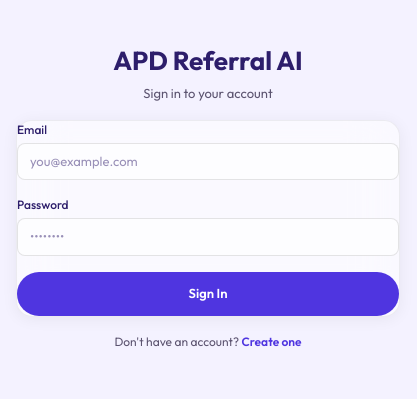
Test: Login › shows fallback error when signIn throws non-Error
Type "bad@test.com" into the field labelled "Email".
click(208, 162); type("bad@test.com")  # box [17,143,399,180]
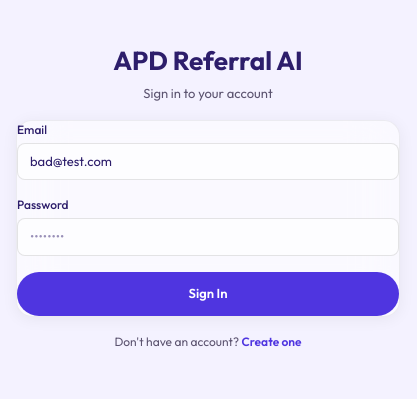
Type "wrong" into the password field labelled "Password".
click(208, 237); type("wrong")  # box [17,218,399,256]
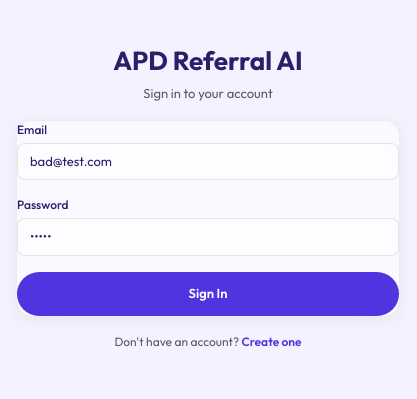
Click the button "Sign In".
click(208, 294)  # box [17,272,399,316]
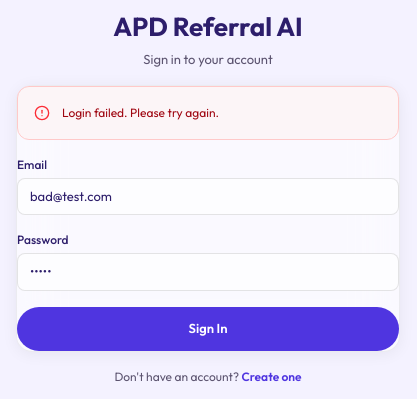
Now the text "Login failed. Please try again." is shown, box [62,103,219,122]
